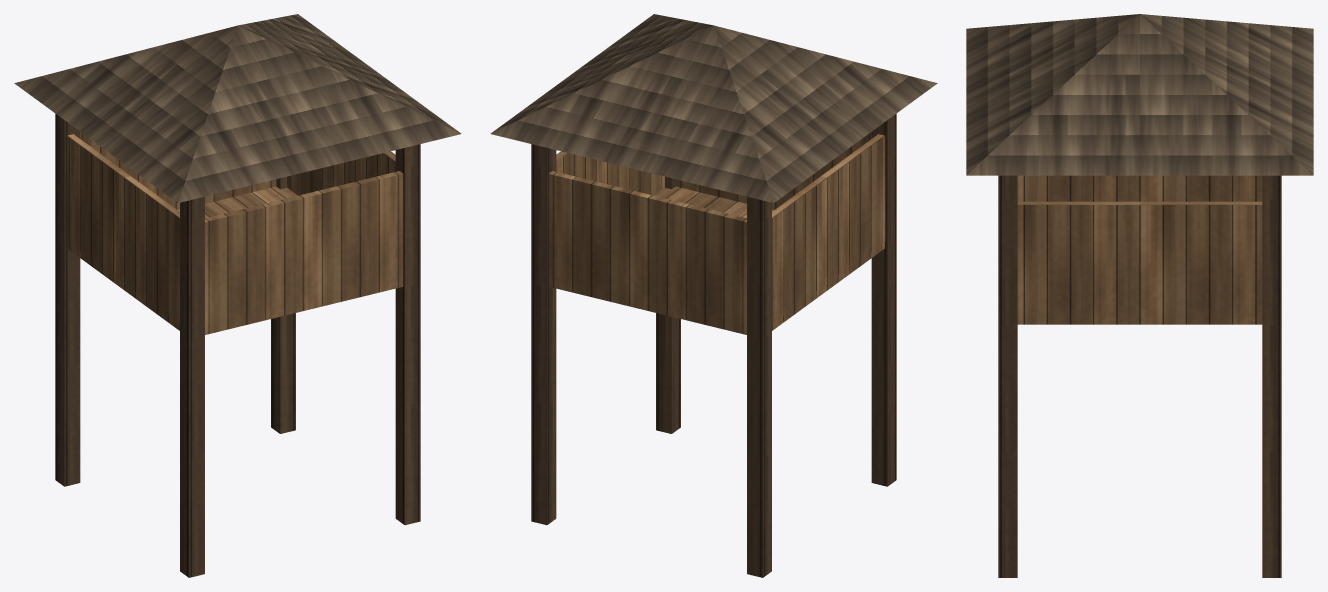
The model's file is Watchpost_Wood_1_LOD2.gltf.
The picture shows the model from 3 angles, left to right: view 1: azimuth 30°, elevation 25°; view 2: azimuth 150°, elevation 25°; view 3: azimuth 270°, elevation 25°; orthographic projection. The views are drawn at different scales.
Visible parts, largest first — view 1: Watchpost_Wood_1_LOD2; view 2: Watchpost_Wood_1_LOD2; view 3: Watchpost_Wood_1_LOD2.
Part boxes in pixels (bbox=[...]): Watchpost_Wood_1_LOD2: bbox=[14, 14, 461, 577]; Watchpost_Wood_1_LOD2: bbox=[490, 14, 937, 577]; Watchpost_Wood_1_LOD2: bbox=[966, 14, 1313, 577].
Bounding box in the file's own units: 2.5 × 4 × 2.5.
Materials: 3 (3 with a texture image).
